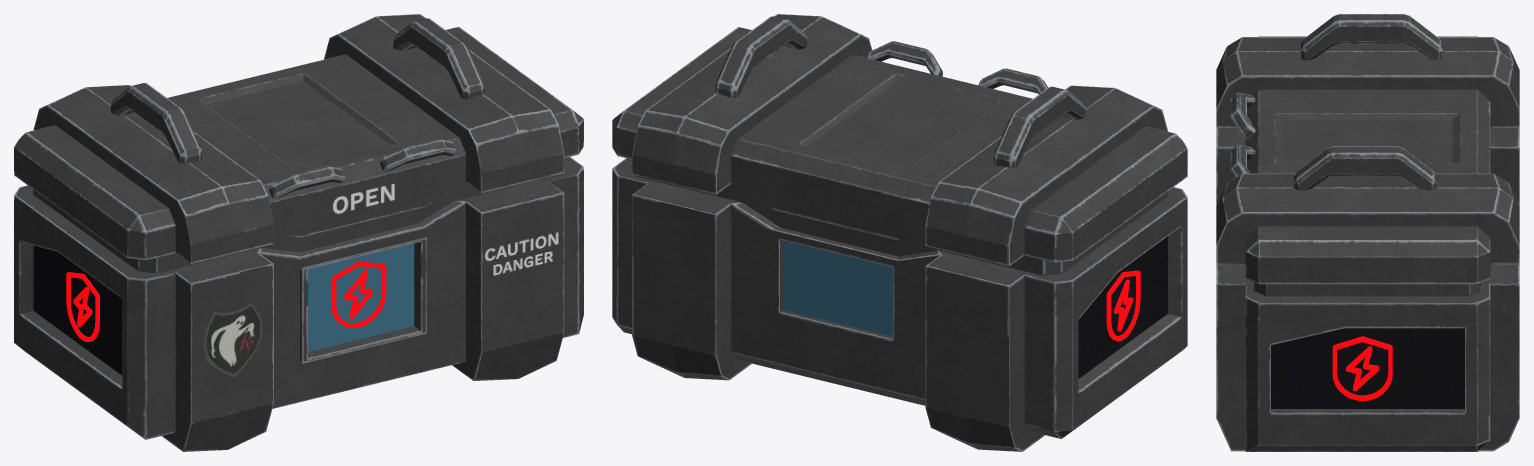
File: StasisField.fbx
3 renders of one model, left to right at view 1: azimuth 30°, elevation 25°; view 2: azimuth 150°, elevation 25°; view 3: azimuth 270°, elevation 25°, orthographic. The views are drawn at different scales.
Parts seen in each view (by area): view 1: Box, StasisField; view 2: Box, StasisField; view 3: Box, StasisField.
Boxes of the visible parts, <box> form: Box: <box>14,14,583,451</box>; StasisField: <box>66,261,386,341</box>; Box: <box>612,14,1187,451</box>; StasisField: <box>1106,270,1140,341</box>; Box: <box>1216,14,1519,451</box>; StasisField: <box>1332,336,1392,400</box>.
Bounding box in the file's own units: 334 × 207 × 199.
2 materials, 1 textured.
